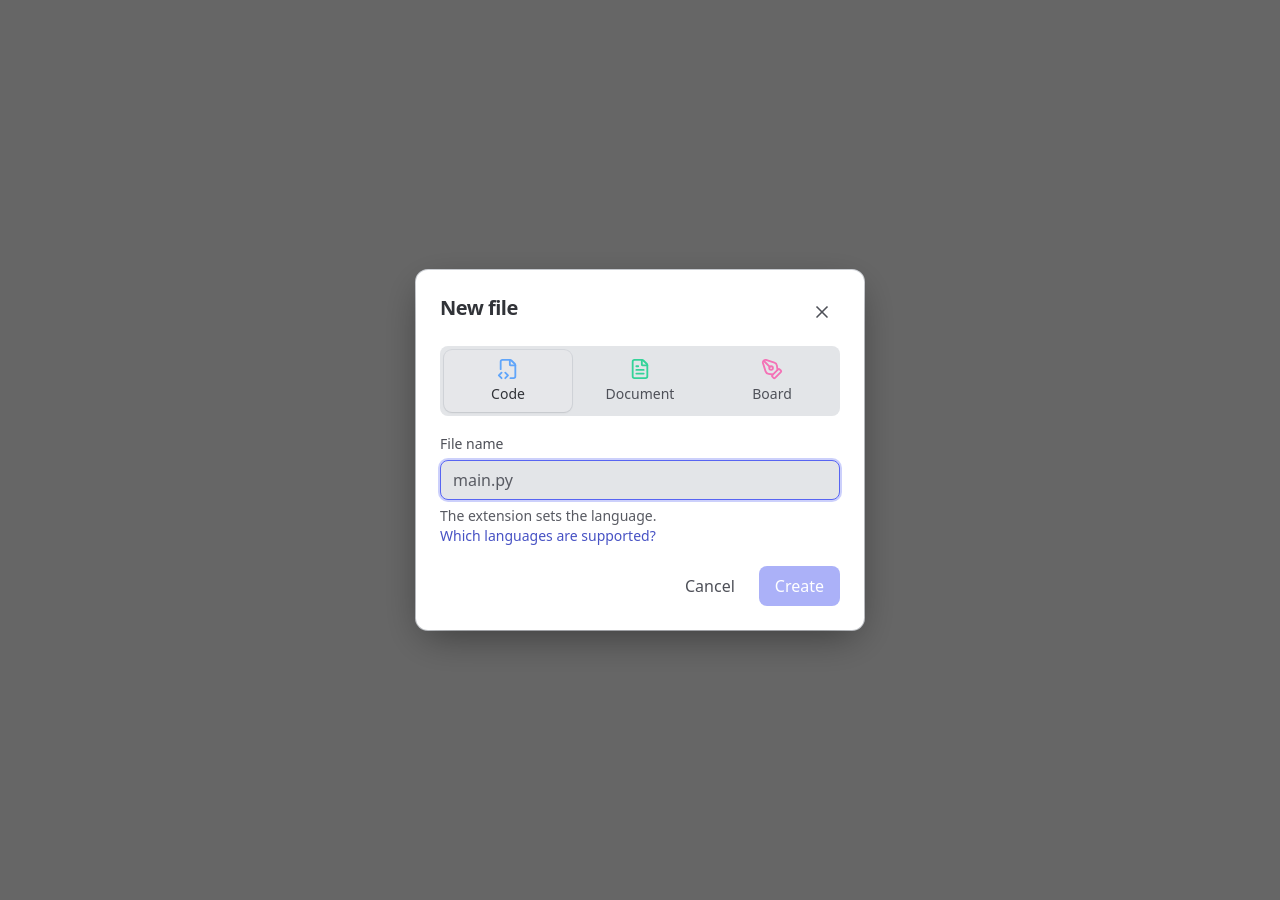
Test case: CreateFileDialog › refuses a path that leaves the project
Type "../secret.py" into the field labelled "File name" at (640, 480), box [440,460,840,500]
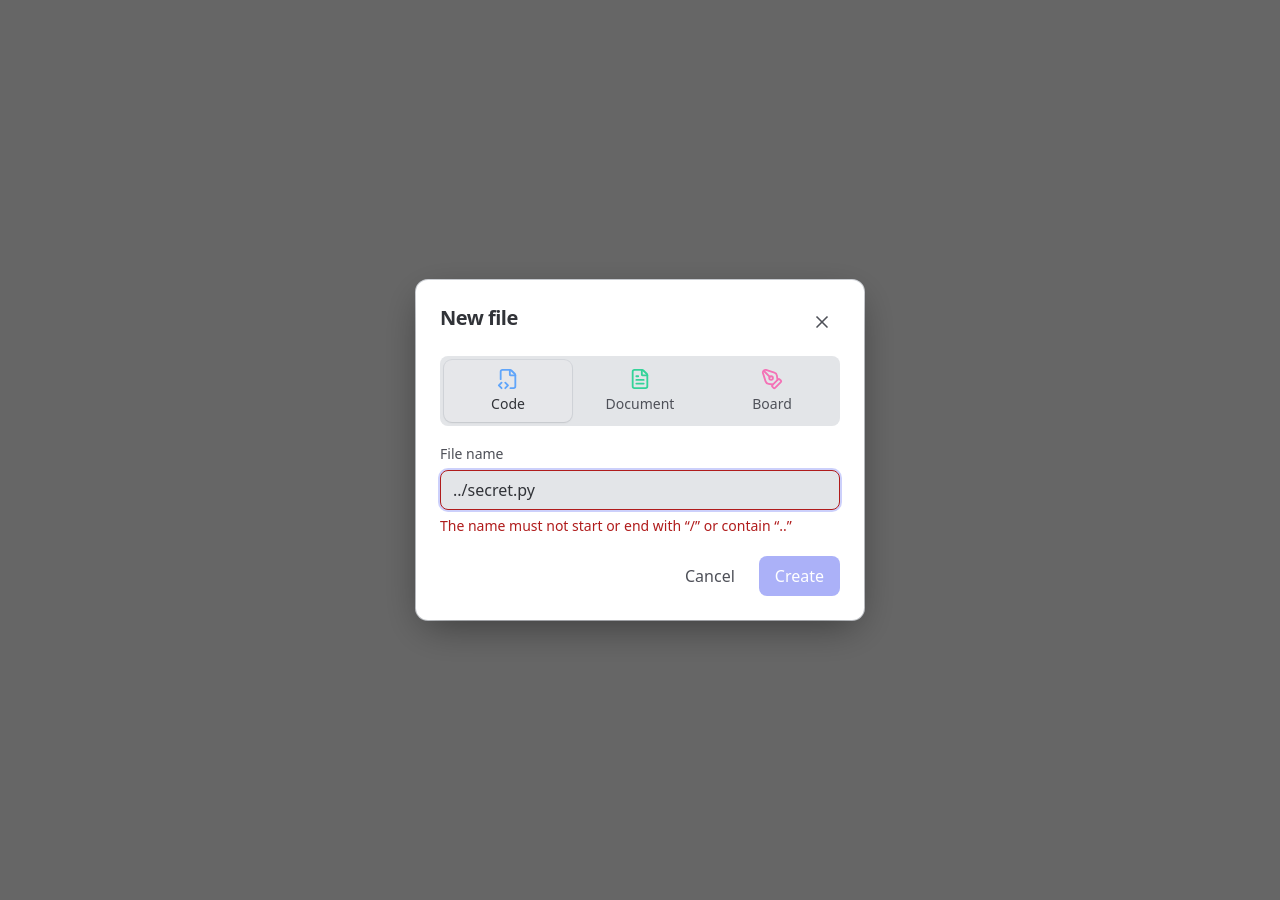
Expected: the button "Create" is disabled, [759,556,840,596]
Expected: the text "The name must not start or end with “/” or contain “..”" is shown, [440,516,840,536]
